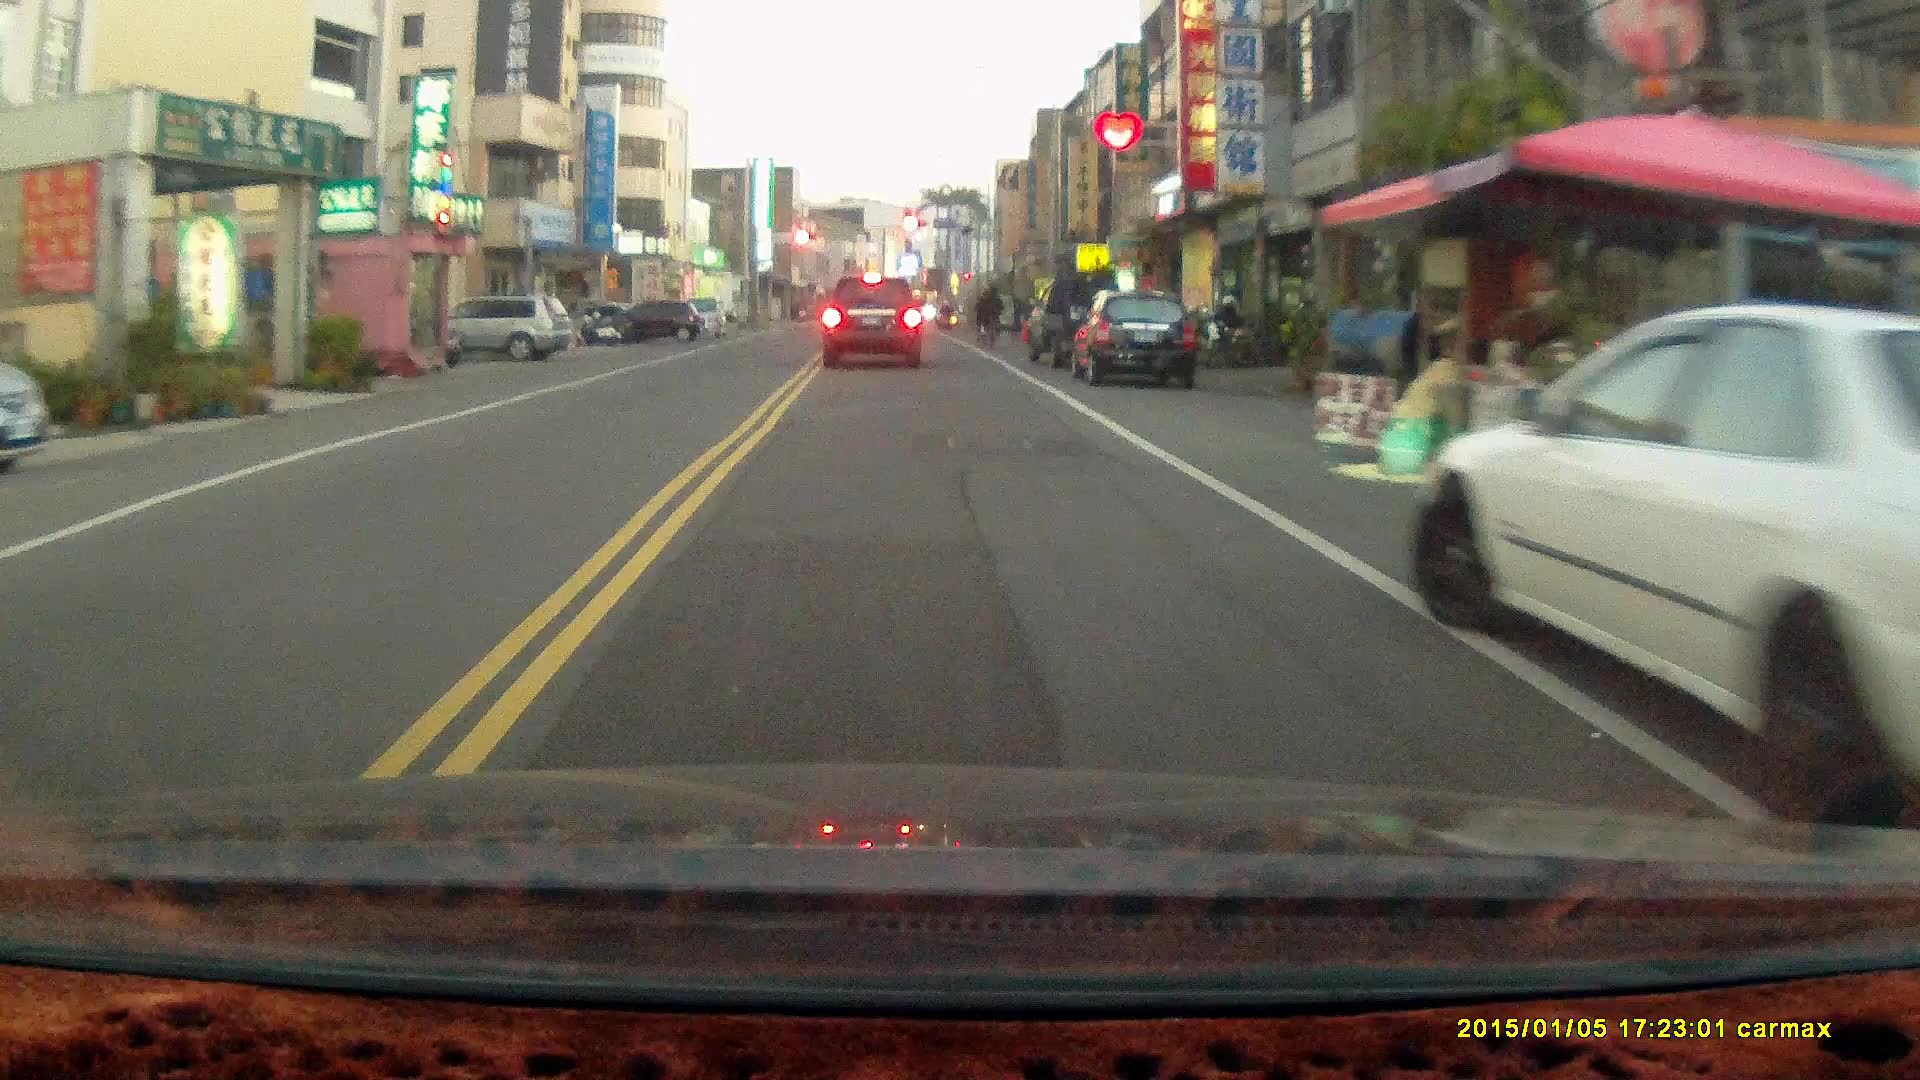rider: (974, 281, 1004, 348)
vehicle: (1415, 295, 1920, 802), (1073, 287, 1204, 391), (410, 299, 574, 367), (819, 273, 926, 371), (594, 297, 702, 346)
